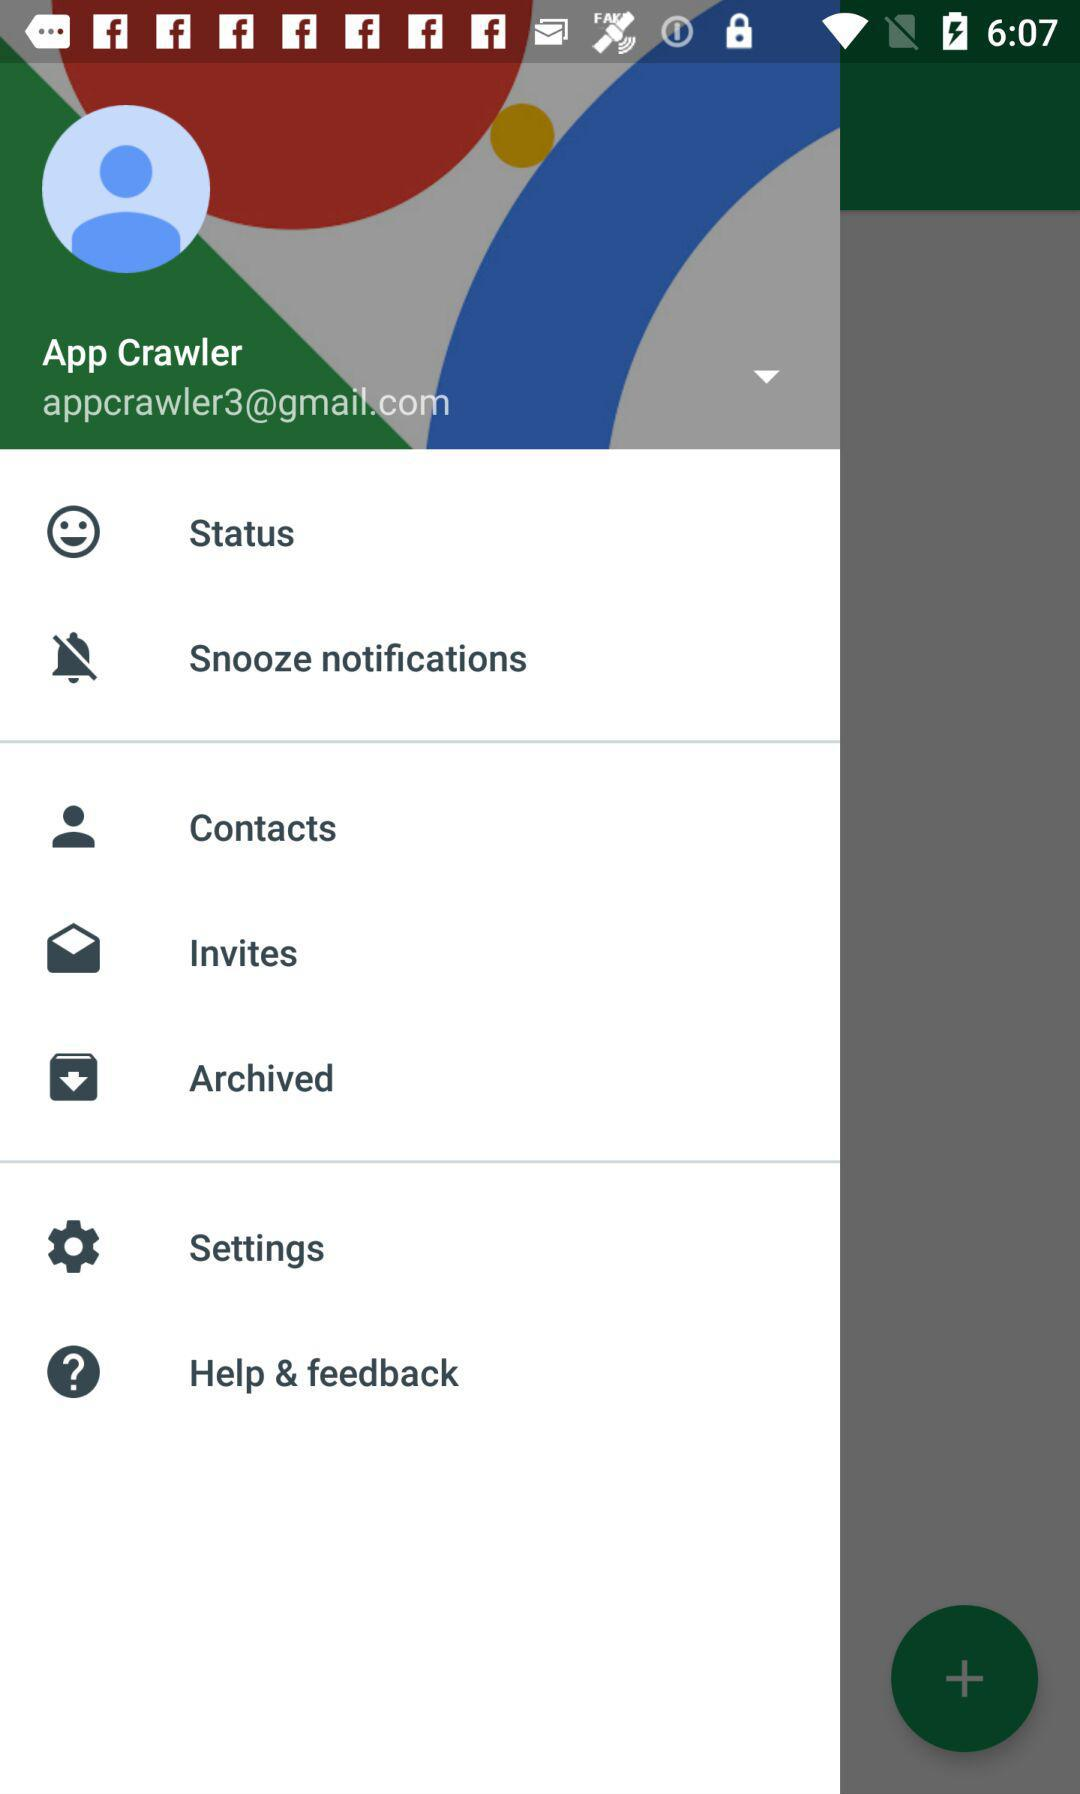Drawer: (3, 65, 840, 1794)
Icon: (42, 105, 211, 276), (890, 1604, 1039, 1753), (47, 1344, 102, 1399), (47, 1219, 101, 1274), (46, 923, 102, 975), (51, 630, 100, 686), (50, 1052, 100, 1103), (53, 805, 97, 850), (752, 369, 781, 386)
Image: (46, 505, 102, 560)
Text: (44, 384, 451, 425), (190, 642, 528, 675), (191, 1356, 461, 1395), (42, 336, 245, 375), (190, 1231, 325, 1270), (190, 1061, 334, 1096), (190, 812, 338, 844), (190, 518, 296, 550), (192, 938, 299, 969)
UpperTaskBar: (1, 1, 1080, 64)
